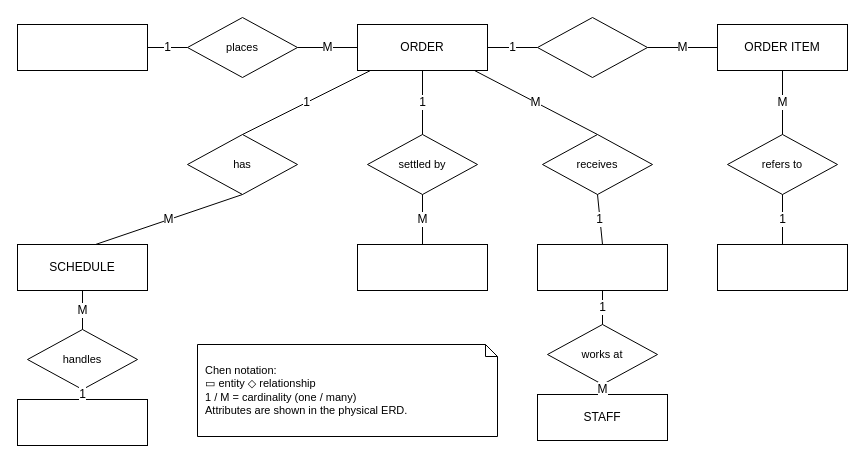
Some shapes in this 865 by 463 pixel diagram are drawn without their labels. The centre of each missing label's shape, as x and y in pixels:
BRANCH: [602,267]
contains: [592,47]
CUSTOMER: [82,47]
PAYMENT: [422,267]
RIDER: [82,422]
SERVICE: [782,267]
